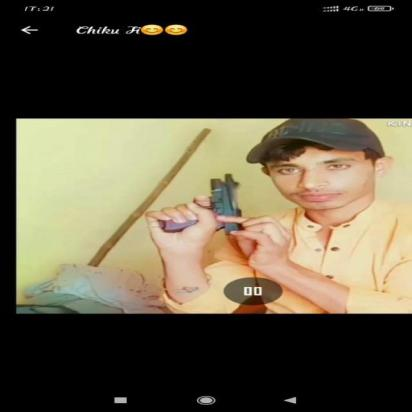Gun: (148, 172, 250, 236)
